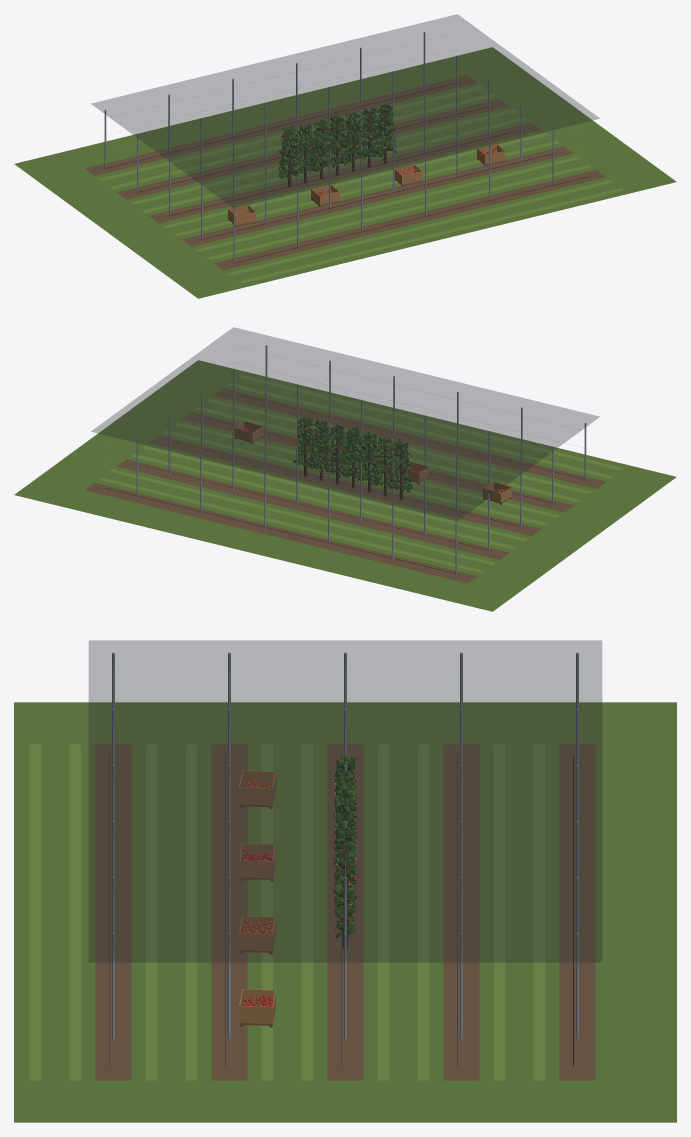
Rendered from orchard.glb.
3 views of the same model, one above another, from view 1: azimuth 30°, elevation 25°; view 2: azimuth 150°, elevation 25°; view 3: azimuth 270°, elevation 25° (orthographic). The views are drawn at different scales.
Visible parts, largest first — view 1: grass, netCloth, ground, posts (×5), bin2, bin0, bin3, bin1; view 2: grass, netCloth, ground, posts (×5), bin3, bin0; view 3: grass, netCloth, ground, posts (×5), bin0, bin3, bin1, bin2.
Boxes of the visible parts, x1,y1,x2,y2 form: grass: (14, 47, 676, 298); netCloth: (91, 14, 599, 207); ground: (85, 75, 624, 283); posts (×5): (104, 32, 554, 262); bin2: (394, 164, 422, 186); bin0: (228, 205, 256, 227); bin3: (477, 144, 505, 166); bin1: (311, 185, 339, 206); grass: (14, 360, 676, 611); netCloth: (91, 327, 599, 520); ground: (85, 375, 624, 583); posts (×5): (136, 345, 586, 576); bin3: (234, 421, 263, 443); bin0: (483, 482, 511, 504); grass: (14, 702, 676, 1122); netCloth: (89, 640, 601, 962); ground: (29, 744, 595, 1080); posts (×5): (111, 652, 579, 1039); bin0: (238, 770, 276, 808); bin3: (239, 989, 275, 1027); bin1: (239, 843, 275, 881); bin2: (239, 916, 275, 954).
Size of the model in its own units: 30 by 3.71 by 20.
